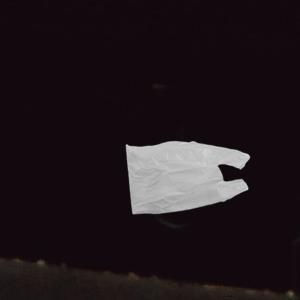plastic_bag: (123, 140, 255, 219)
